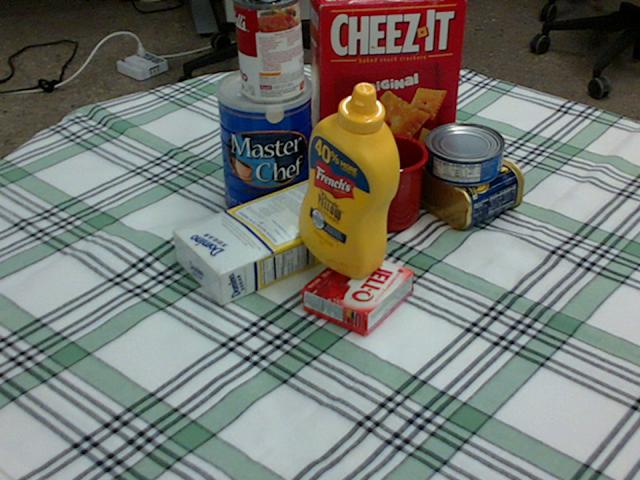cracker_box: (311, 0, 465, 181)
gelatin_box: (303, 248, 414, 335)
master_chef_can: (214, 67, 312, 221)
mug: (342, 130, 429, 231)
mustard_bottle: (298, 82, 399, 278)
potted_meat_can: (407, 136, 522, 226)
sugar_box: (171, 177, 361, 305)
tomato_soup_can: (234, 0, 303, 102)
tuna_fish_can: (424, 123, 504, 185)
